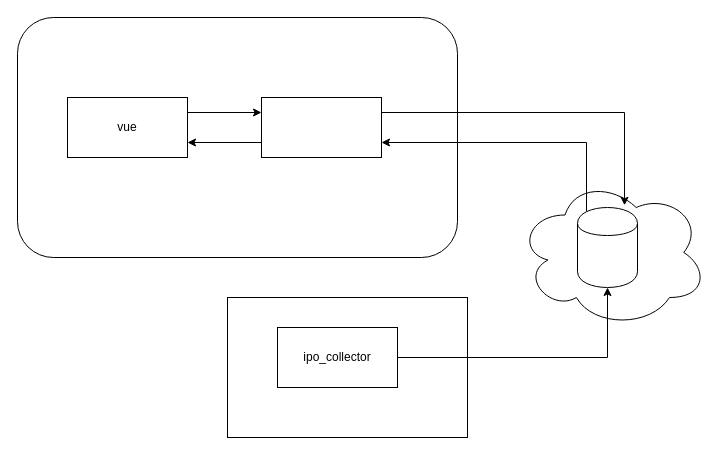
Some shapes in this 725 by 455 pixel diagram are drawn without their labels. The box of each missing label's shape, as (x1, y1, x2, y2) in pixels:
flask: (260, 96, 382, 158)
mongoDB: (576, 206, 638, 288)
